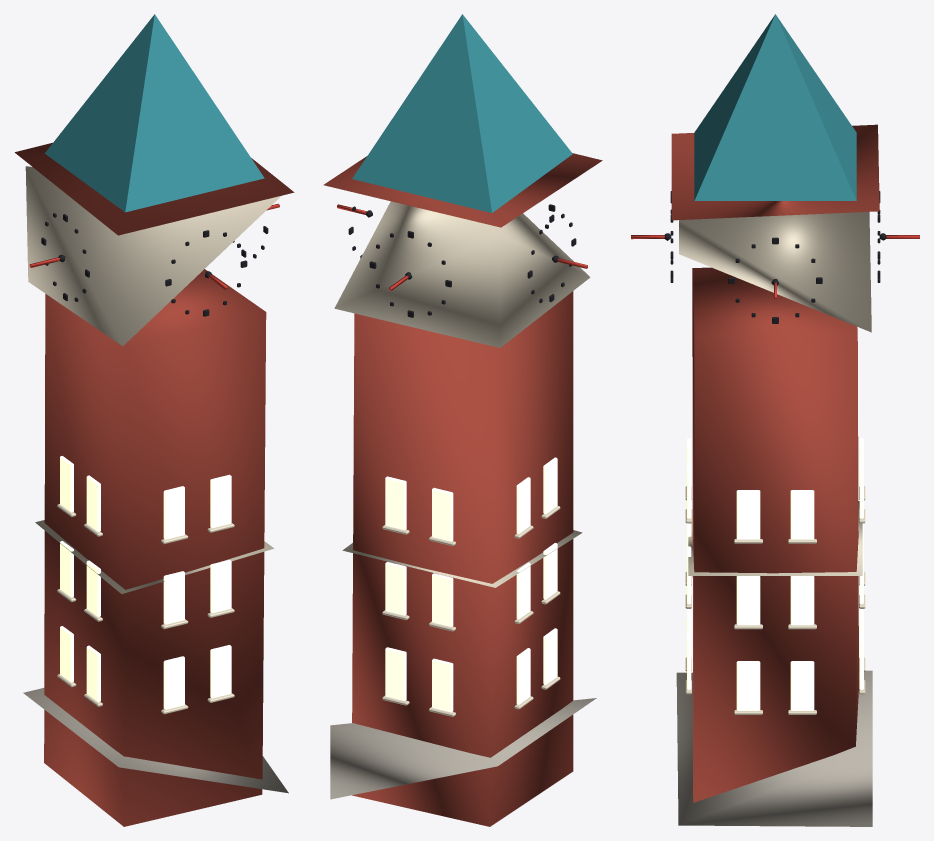
The model's file is clock_tower.glb.
The picture shows the model from 3 angles, left to right: view 1: azimuth 30°, elevation 25°; view 2: azimuth 150°, elevation 25°; view 3: azimuth 270°, elevation 25°; orthographic projection.
Visible parts, largest first — view 1: clock_tower.006; view 2: clock_tower.006; view 3: clock_tower.006.
Part boxes in pixels (bbox=[...]): clock_tower.006: bbox=[15, 14, 294, 826]; clock_tower.006: bbox=[323, 14, 602, 826]; clock_tower.006: bbox=[670, 14, 880, 826].
Size of the model in its own units: 8.56 by 25.27 by 8.56.
Materials: 1 (1 with a texture image).
